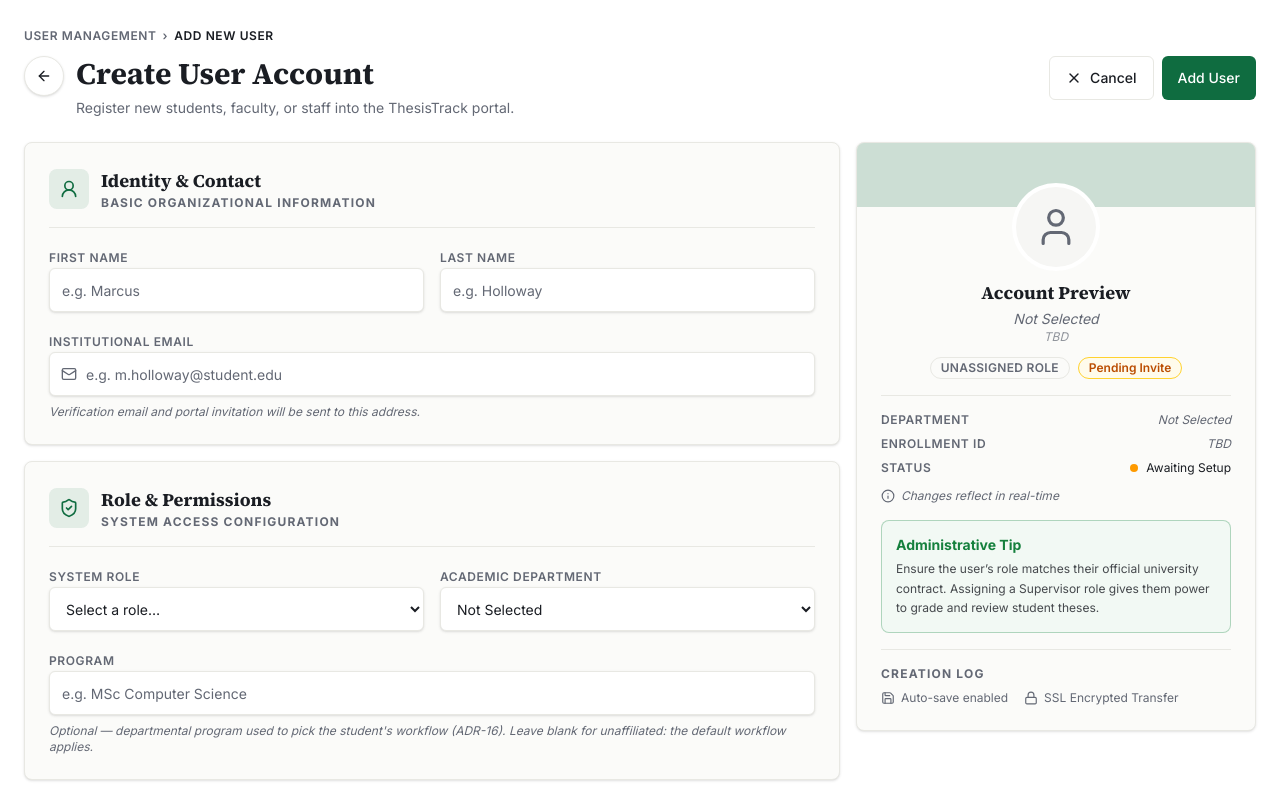
UserCreate (plan 5) › surfaces API write errors inline instead of faking success (Rule 3)
The width and height of the screenshot is (1280, 786).
Step 1. Type "Console" into the field labelled "First Name" → {"x": 236, "y": 290}, box [49,268,424,312]
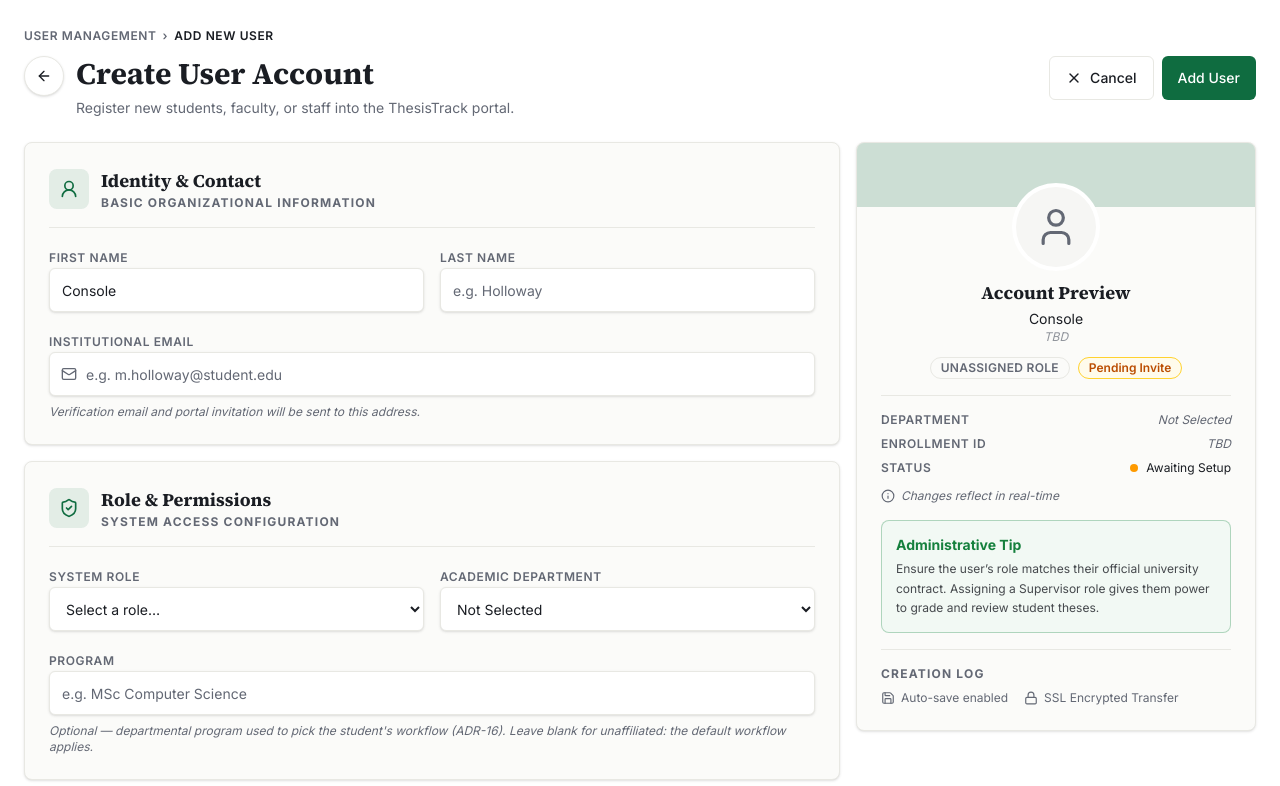
Step 2. Type "E2E" into the field labelled "Last Name" → {"x": 628, "y": 290}, box [440,268,815,312]
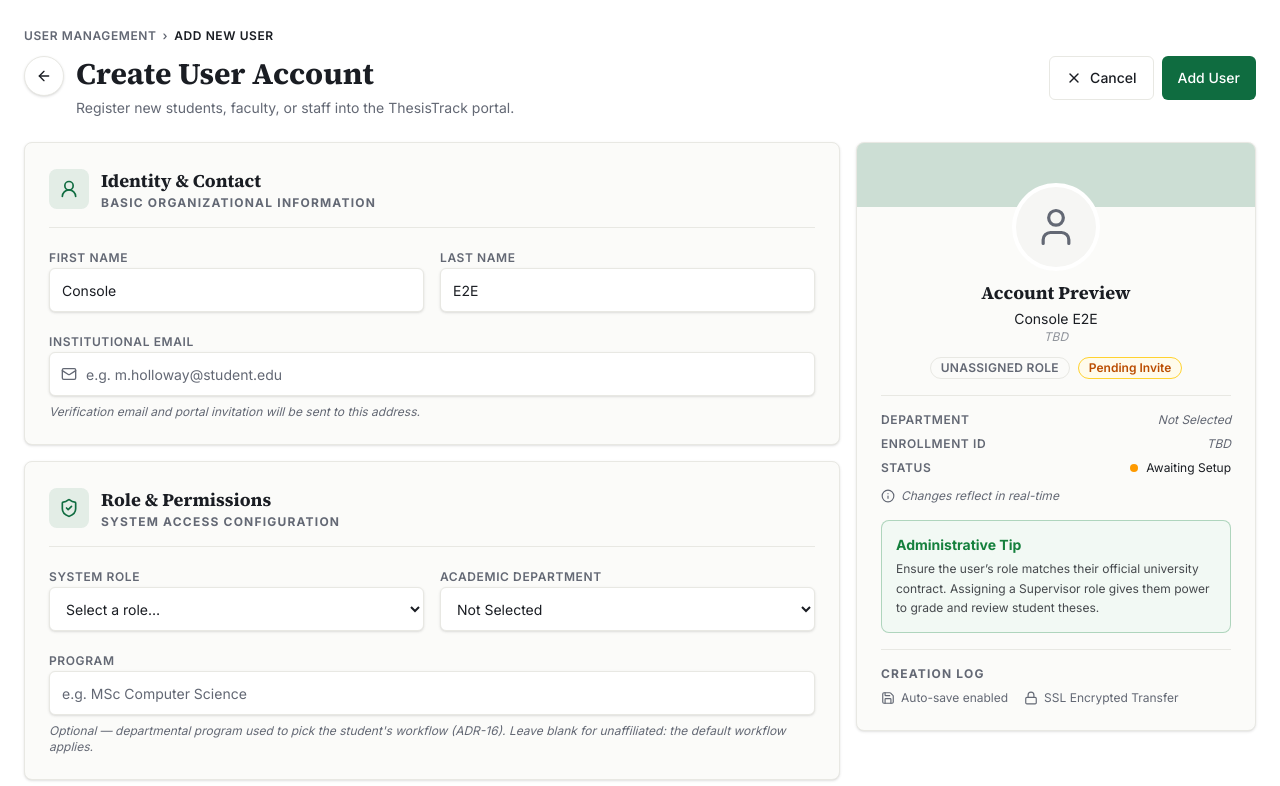
Step 3. Type "console-e2e@test.local" into the field labelled "Institutional Email" → {"x": 432, "y": 374}, box [49,352,815,396]
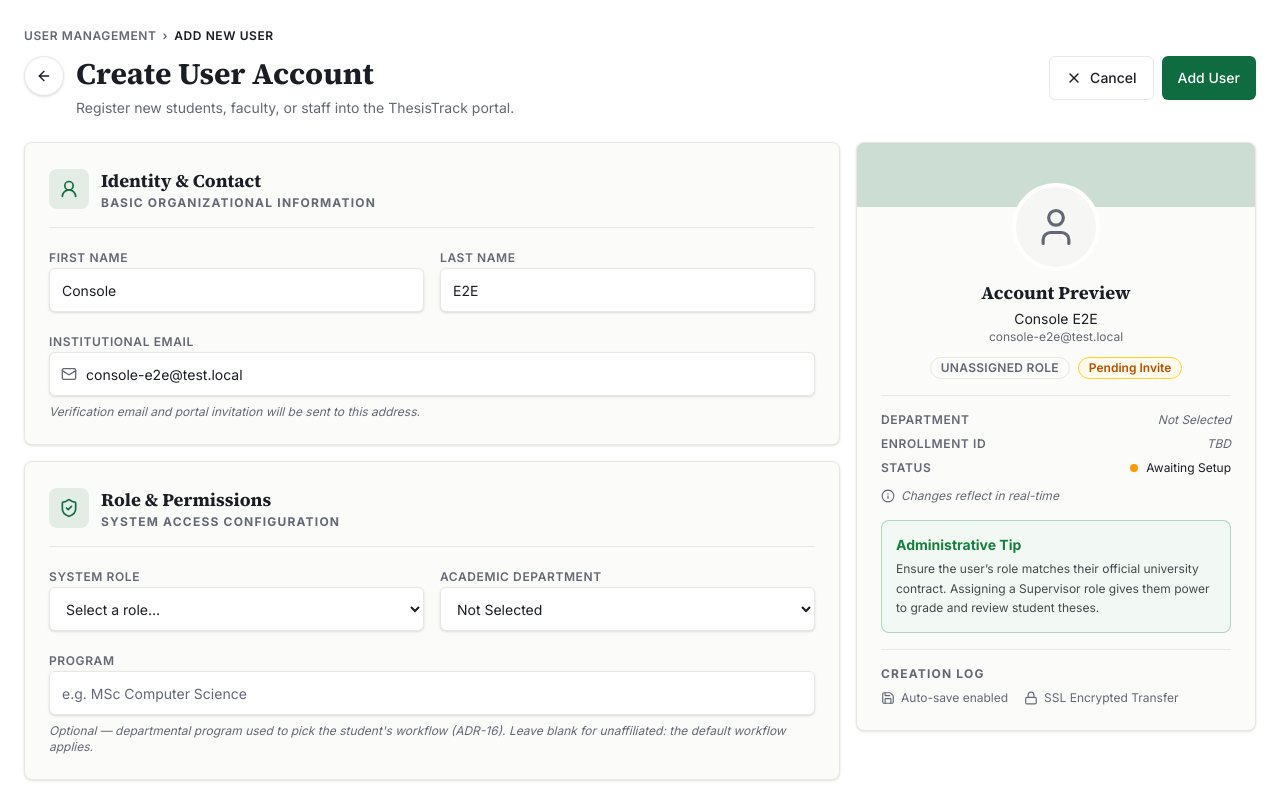
Step 4. Select "Student" in the dropdown labelled "System Role" → {"x": 236, "y": 609}, box [49,587,424,631]
(page scrolled)
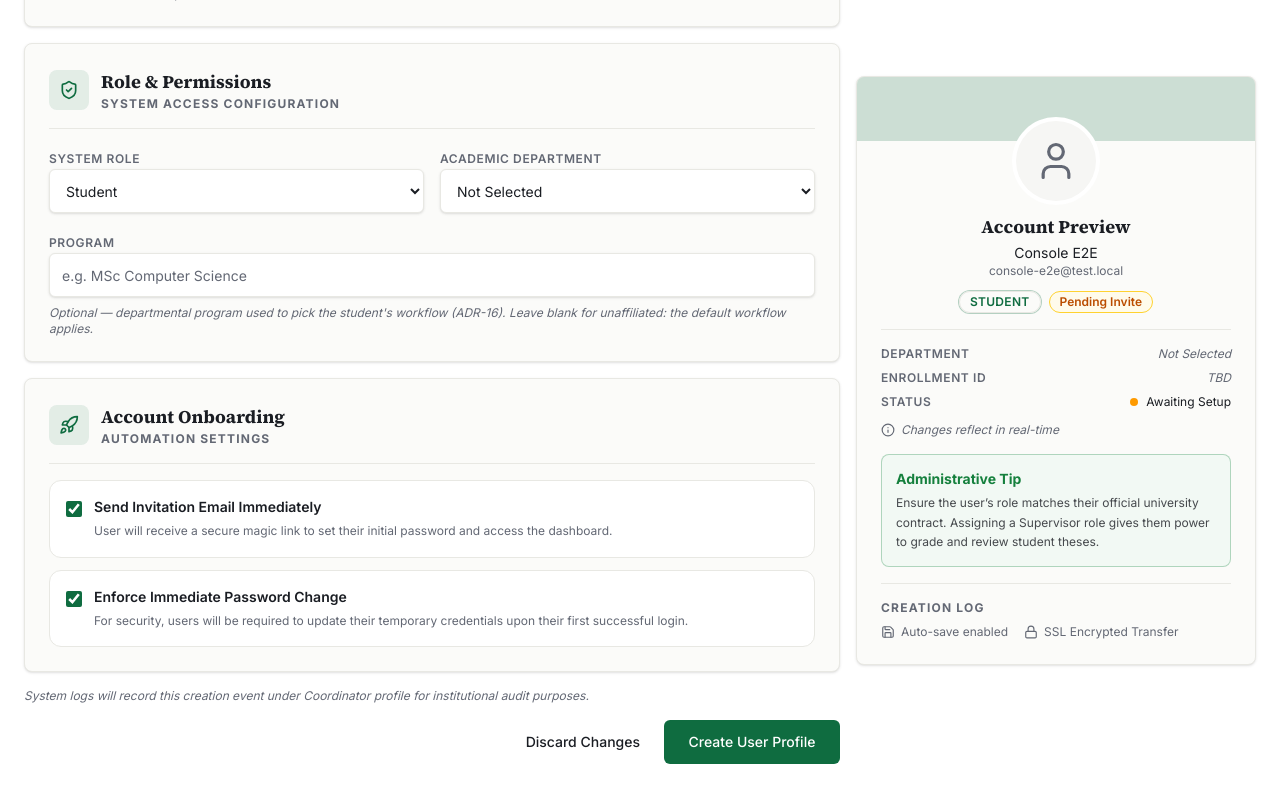
Step 5. Click the button "Create User Profile" → {"x": 752, "y": 742}, box [664,720,840,764]
(page scrolled)
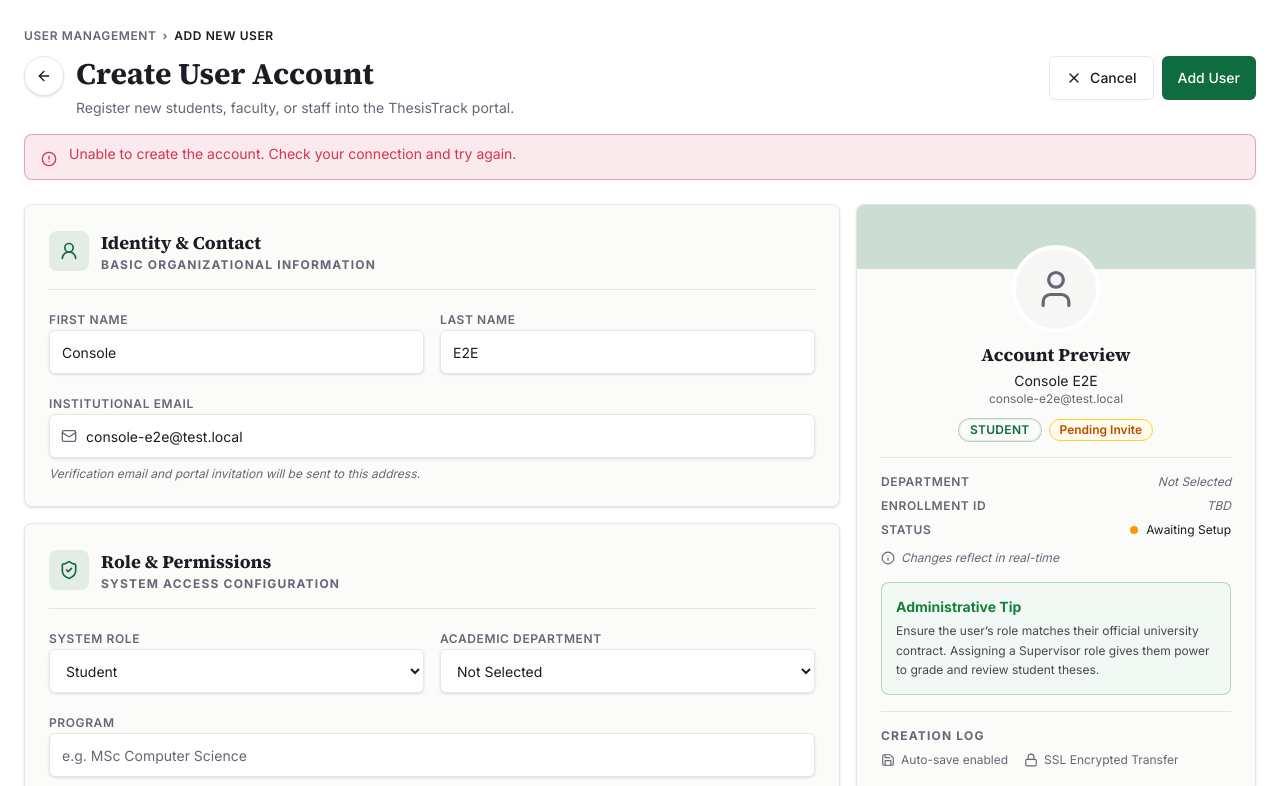
Expected: the text "Unable to create the account" is shown, [69,145,516,162]
